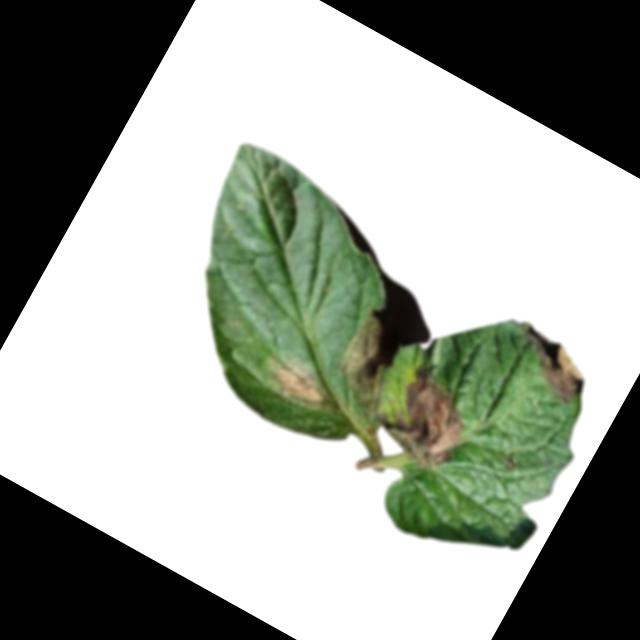Late_blight: (375, 358, 488, 478), (323, 308, 419, 418), (500, 321, 598, 405), (261, 351, 340, 419), (501, 453, 520, 473)
